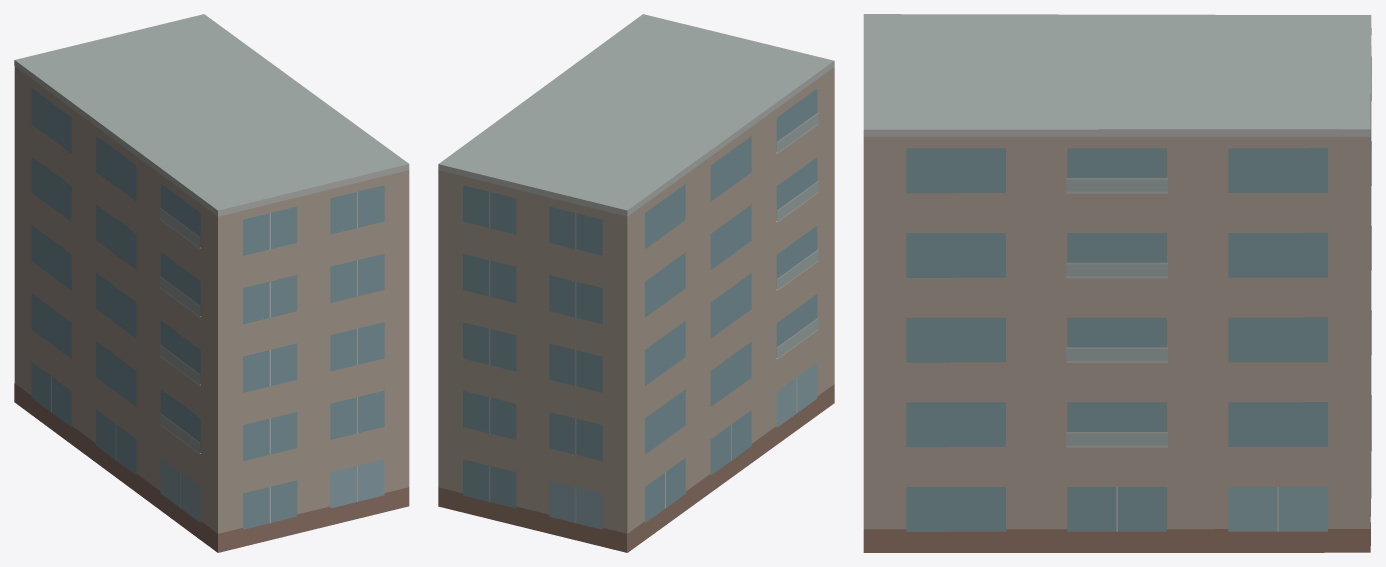
Rendered from survey-upis-32775938.glb.
3 renders of one model, left to right at view 1: azimuth 30°, elevation 25°; view 2: azimuth 150°, elevation 25°; view 3: azimuth 270°, elevation 25°, orthographic. The views are drawn at different scales.
Parts seen in each view (by area): view 1: survey-upis-32775938.tmp; view 2: survey-upis-32775938.tmp; view 3: survey-upis-32775938.tmp.
Boxes of the visible parts, x1,y1,x2,y2 form: survey-upis-32775938.tmp: (14,14,409,552); survey-upis-32775938.tmp: (438,14,834,552); survey-upis-32775938.tmp: (863,14,1371,552).
Size of the model in its own units: 8.03 by 13.6 by 14.8.
